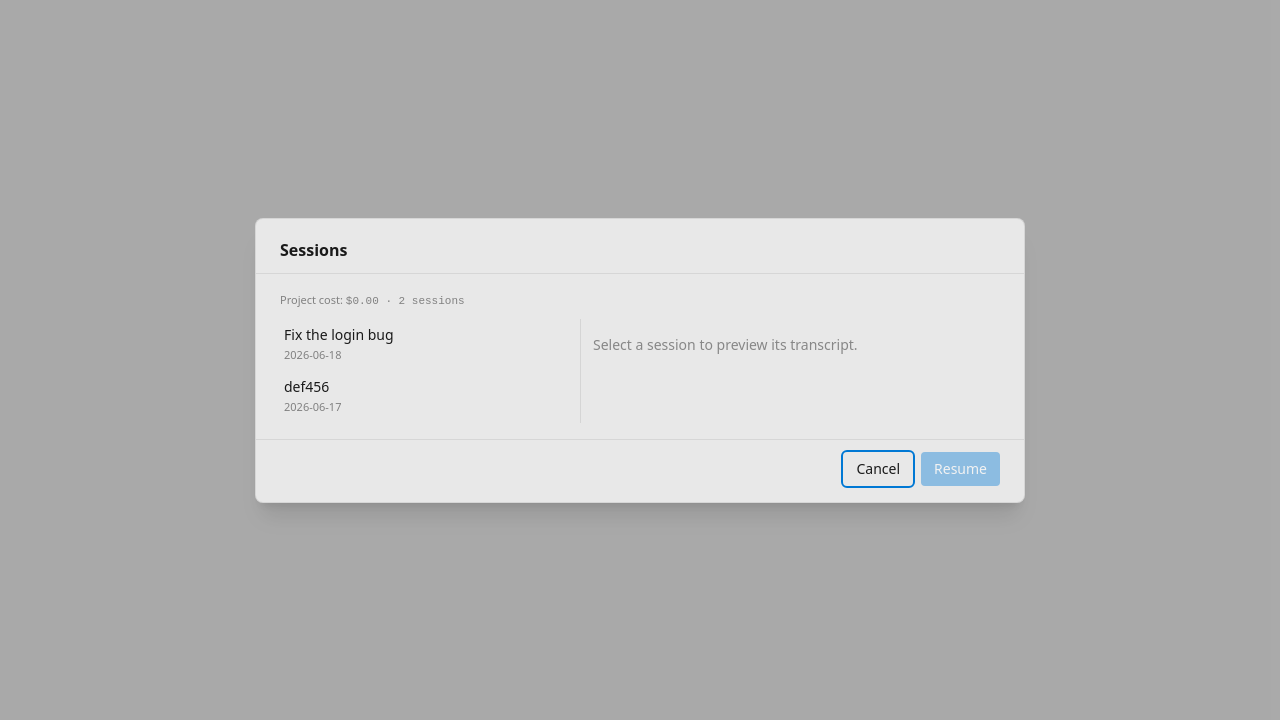
Test: ResumeSessionDialog › filter narrows transcript messages
The image size is (1280, 720).
Click the text "Fix the login bug" at {"x": 339, "y": 334}, box [284,324,394,344]
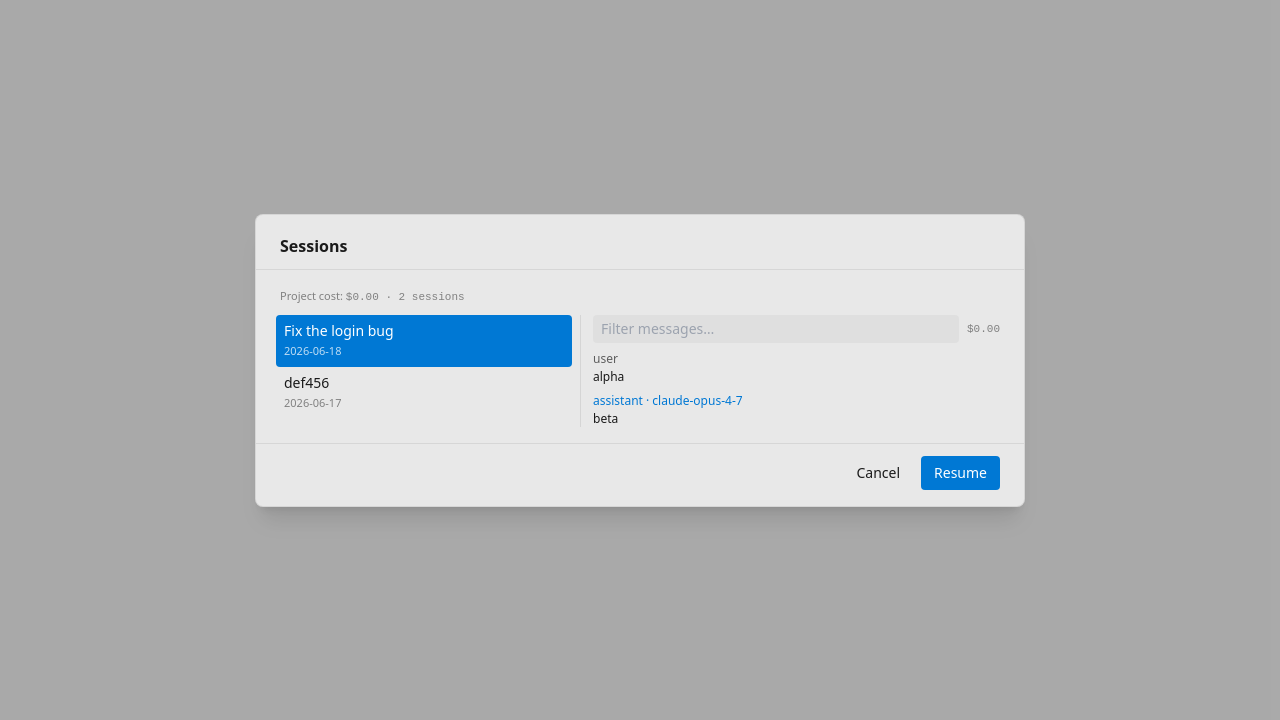
expect the text "alpha" is shown: met, box [593,368,624,384]
expect the text "beta" is shown: met, box [593,410,618,426]
Type "alpha" into the field labelled "Filter messages…" at {"x": 776, "y": 328}, box [593,314,959,342]
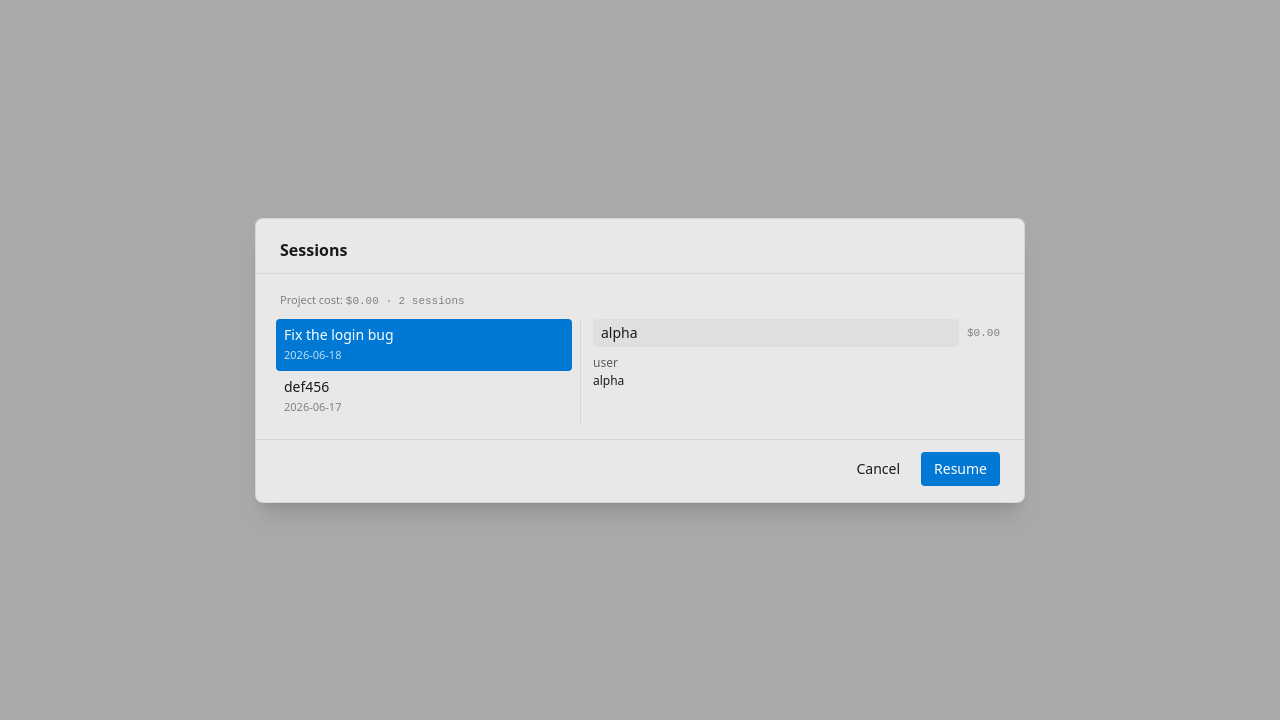
expect the text "alpha" is shown: met, box [593,372,624,388]
expect the text "beta" is gone: met
